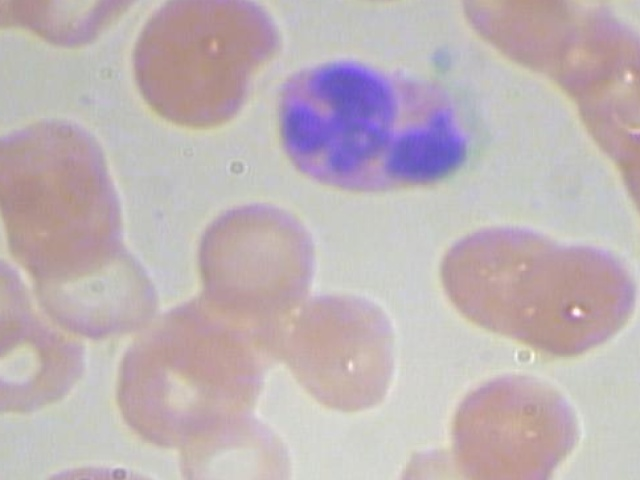RBC: (123, 0, 291, 141), (278, 280, 424, 416), (441, 365, 588, 480), (189, 196, 319, 315), (435, 219, 565, 338), (509, 239, 639, 358), (29, 239, 168, 343), (0, 116, 116, 229), (170, 403, 310, 480), (0, 303, 90, 422), (2, 0, 146, 52), (386, 437, 504, 480), (26, 450, 184, 480), (637, 163, 640, 282)
WBC: (256, 52, 479, 212)
